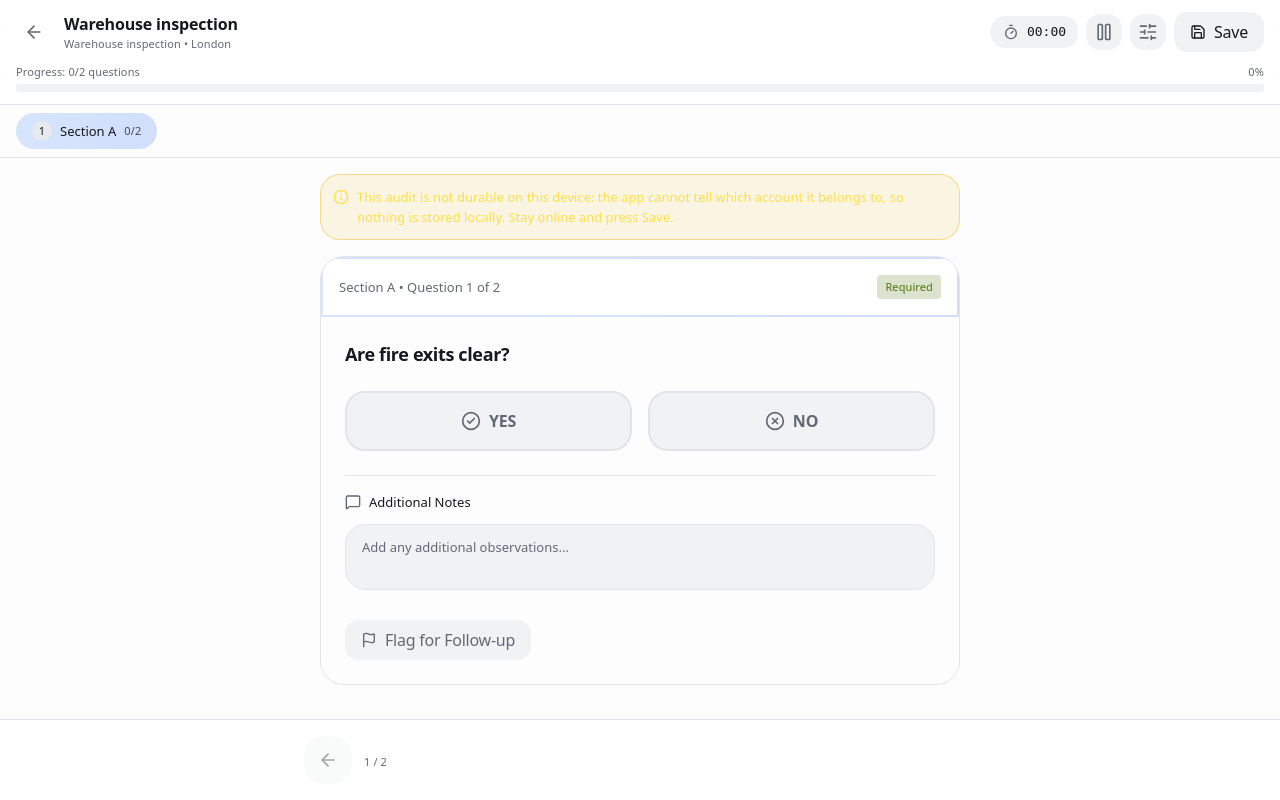
Test case: AuditExecution answer highlight (PX-242) › carries no selection into the next question after auto-advance
This screenshot has width=1280, height=800.
Click the button "YES".
click(488, 421)  # box [345, 391, 632, 451]
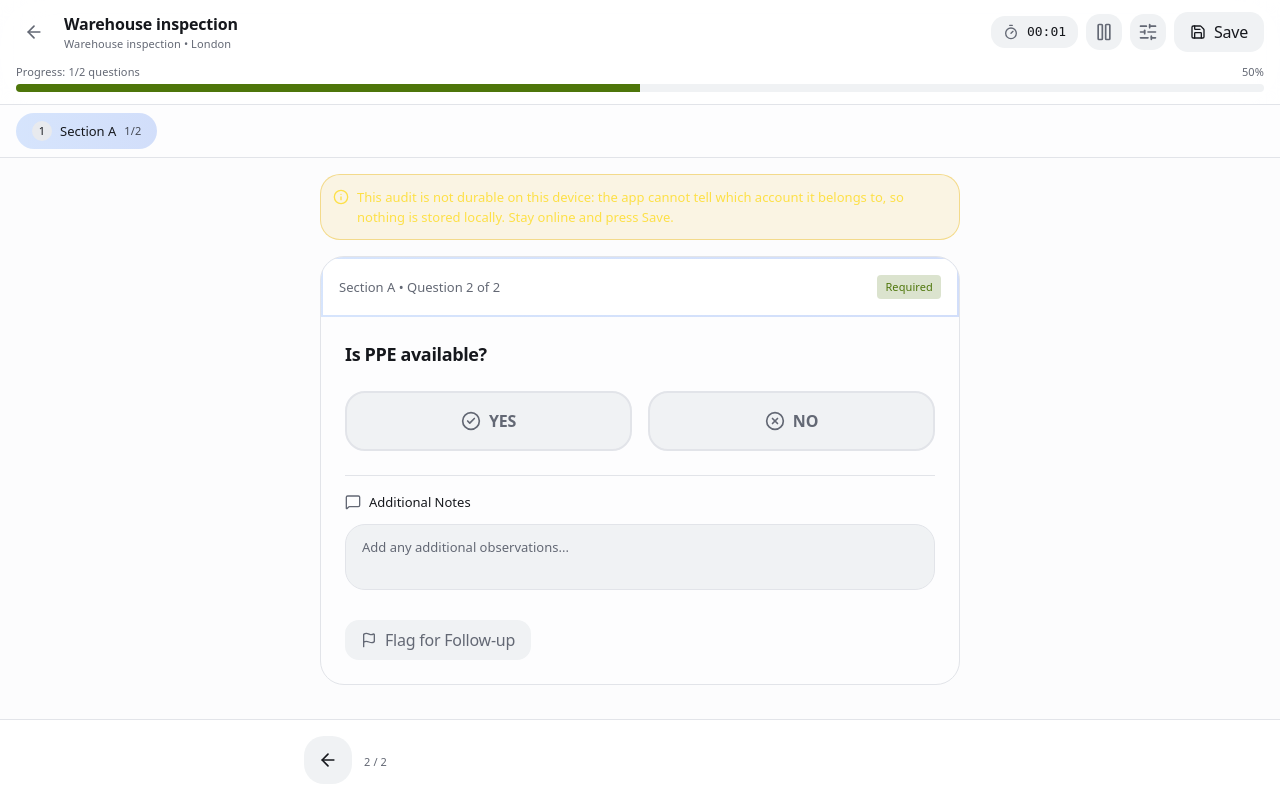
Now the heading "Is PPE available?" is shown, box [345, 342, 487, 366]
